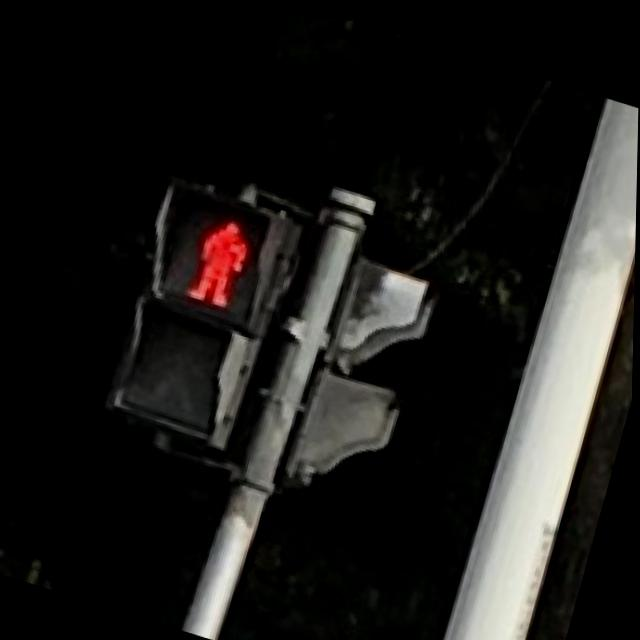red_light: (171, 194, 276, 318)
